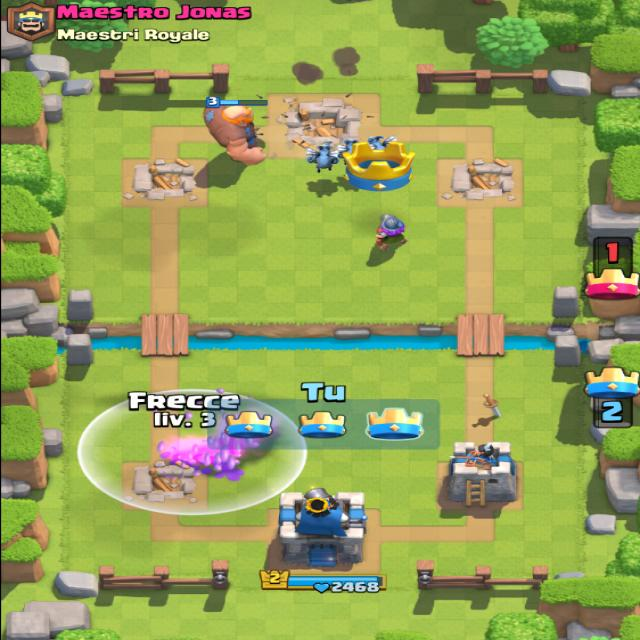Enemy-Giant: (206, 99, 275, 162)
Player-Minion: (306, 138, 342, 172)
Player-Musketeer: (371, 208, 412, 252)
